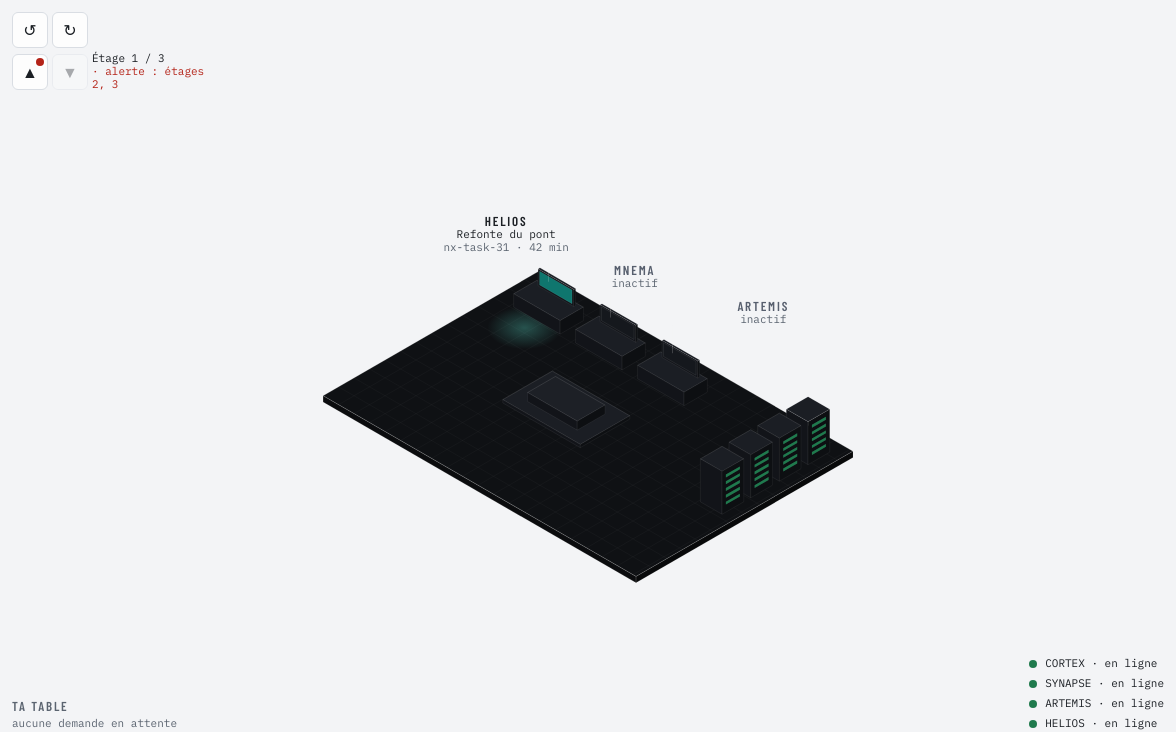
it: plusieurs étages en alerte : les deux textes, « alerte aux étages 1 et 3 »
Click the button named "Monter d'un étage" at (30, 72), box [12,54,48,90]
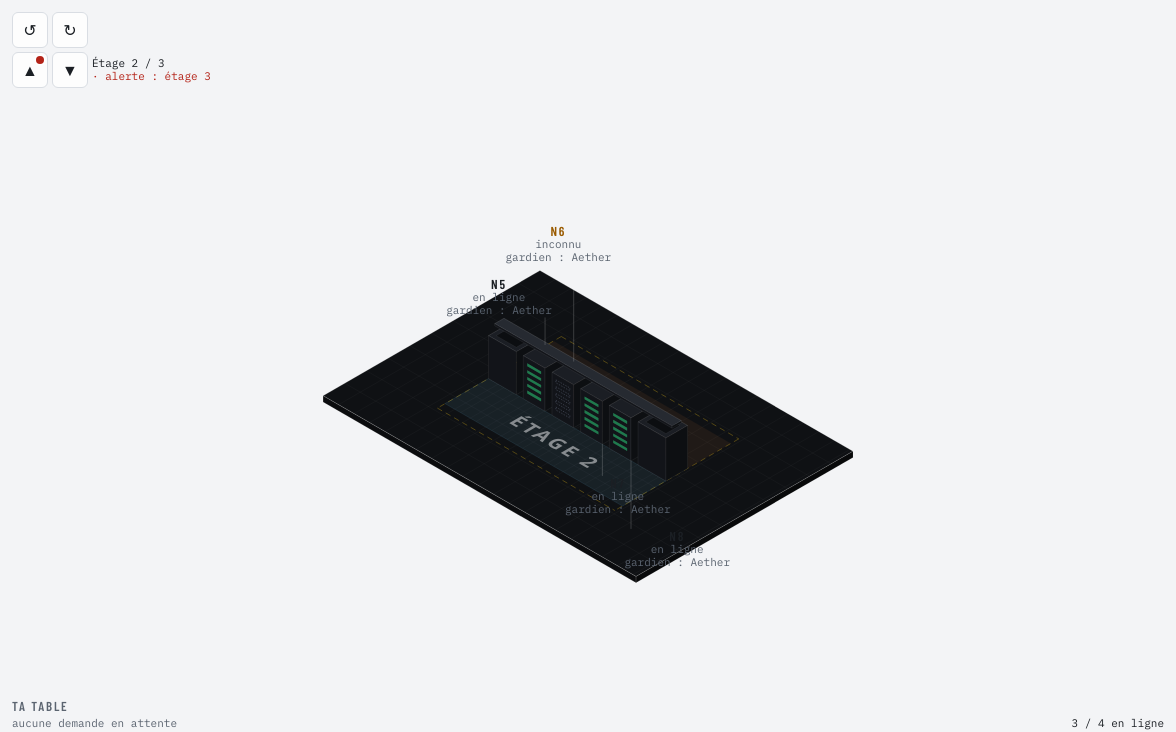
Expected: the element showing "Étage 2 / 3 · alerte : étage 3" is shown, [92,57,222,83]
Click the button named "Descendre d'un étage" at (70, 70), box [52,52,88,88]
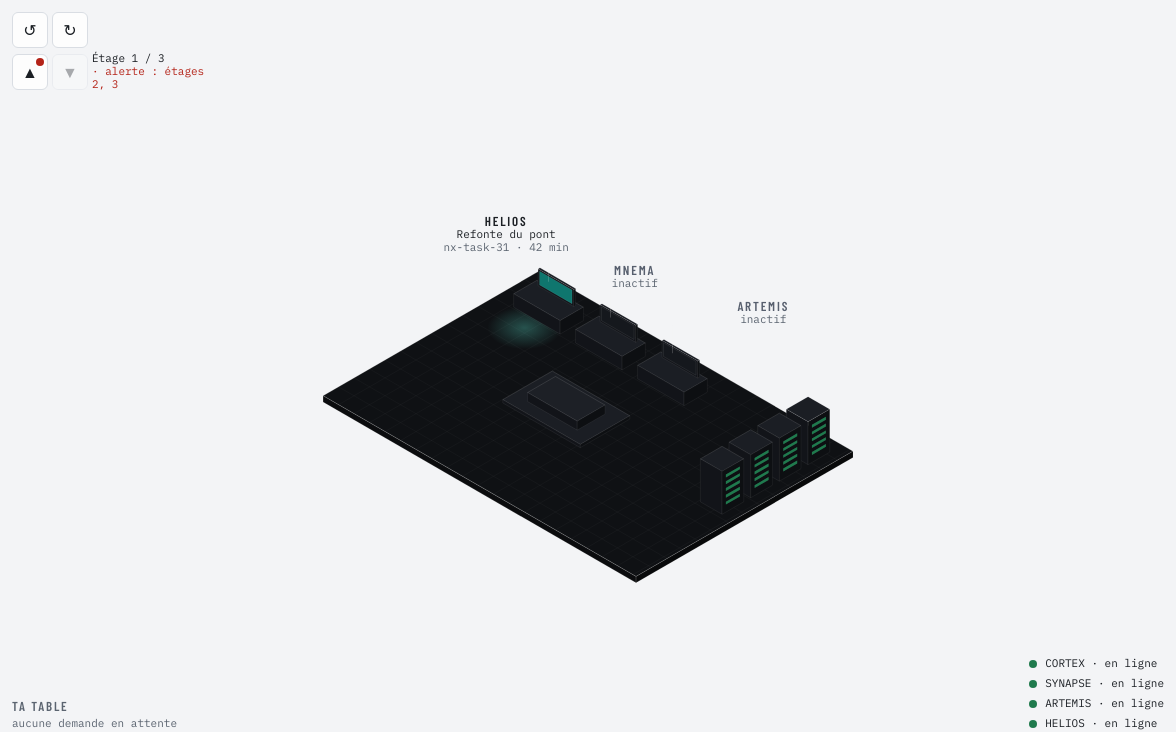
Expected: the element showing "Étage 1 / 3 · alerte : étages 2, 3" is shown, [92,52,222,91]
